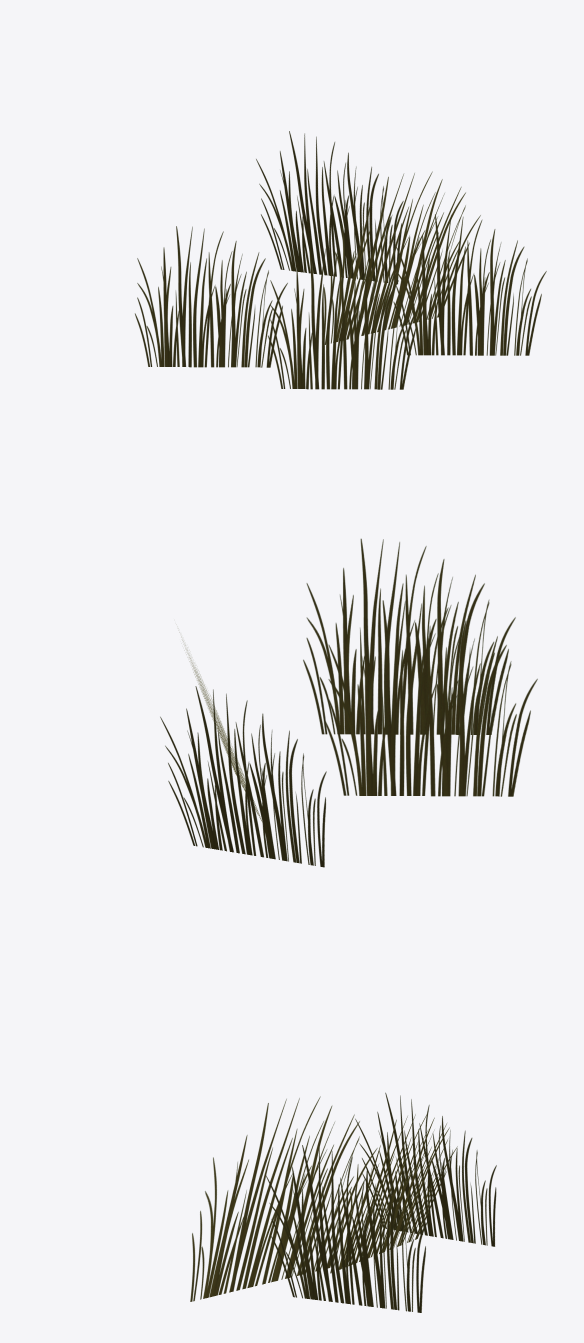
The model's file is death_grass_chunk_low.glb.
3 views of the same model, one above another, from view 1: azimuth 30°, elevation 25°; view 2: azimuth 150°, elevation 25°; view 3: azimuth 270°, elevation 25° (orthographic). The views are drawn at different scales.
Parts seen in each view (by area): view 1: grass-anim_death.png__; view 2: grass-anim_death.png__; view 3: grass-anim_death.png__.
Part boxes in pixels (x1,y1,x2,y2): grass-anim_death.png__: (135, 131, 546, 389); grass-anim_death.png__: (160, 538, 537, 867); grass-anim_death.png__: (190, 1092, 496, 1312).
Bounding box in the file's own units: 5.74 × 2.71 × 6.09.
Materials: 1 (1 with a texture image).
